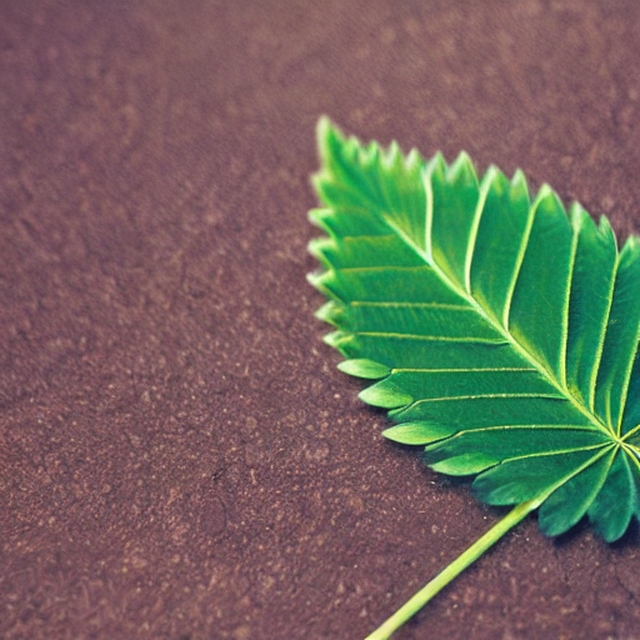Marijuana Leaf: (302, 112, 639, 639), (303, 112, 639, 547)
